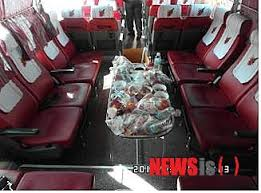seat: (166, 35, 225, 80)
